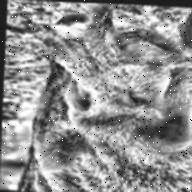boar: (22, 7, 192, 192)
